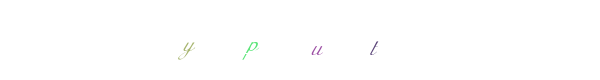P: (214, 0, 294, 80)
T: (304, 0, 384, 80)
U: (260, 0, 340, 80)
Y: (184, 0, 264, 80)
